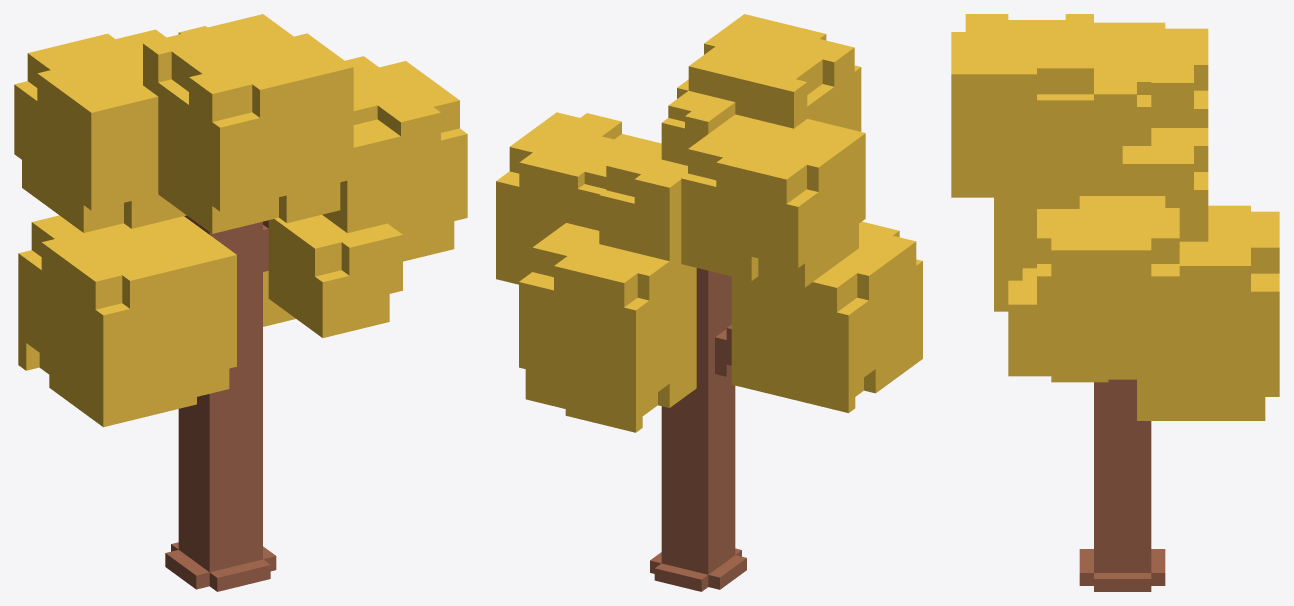
Rendered from village_tree_2.glb.
The picture shows the model from 3 angles, left to right: view 1: azimuth 30°, elevation 25°; view 2: azimuth 150°, elevation 25°; view 3: azimuth 270°, elevation 25°; orthographic projection. The views are drawn at different scales.
Parts seen in each view (by area): view 1: village_tree_2; view 2: village_tree_2; view 3: village_tree_2.
Boxes of the visible parts, x1,y1,x2,y2 form: village_tree_2: (14, 14, 467, 591); village_tree_2: (496, 14, 922, 591); village_tree_2: (951, 14, 1279, 591).
Size of the model in its own units: 2.9 by 4 by 2.3.
1 material, 1 textured.
